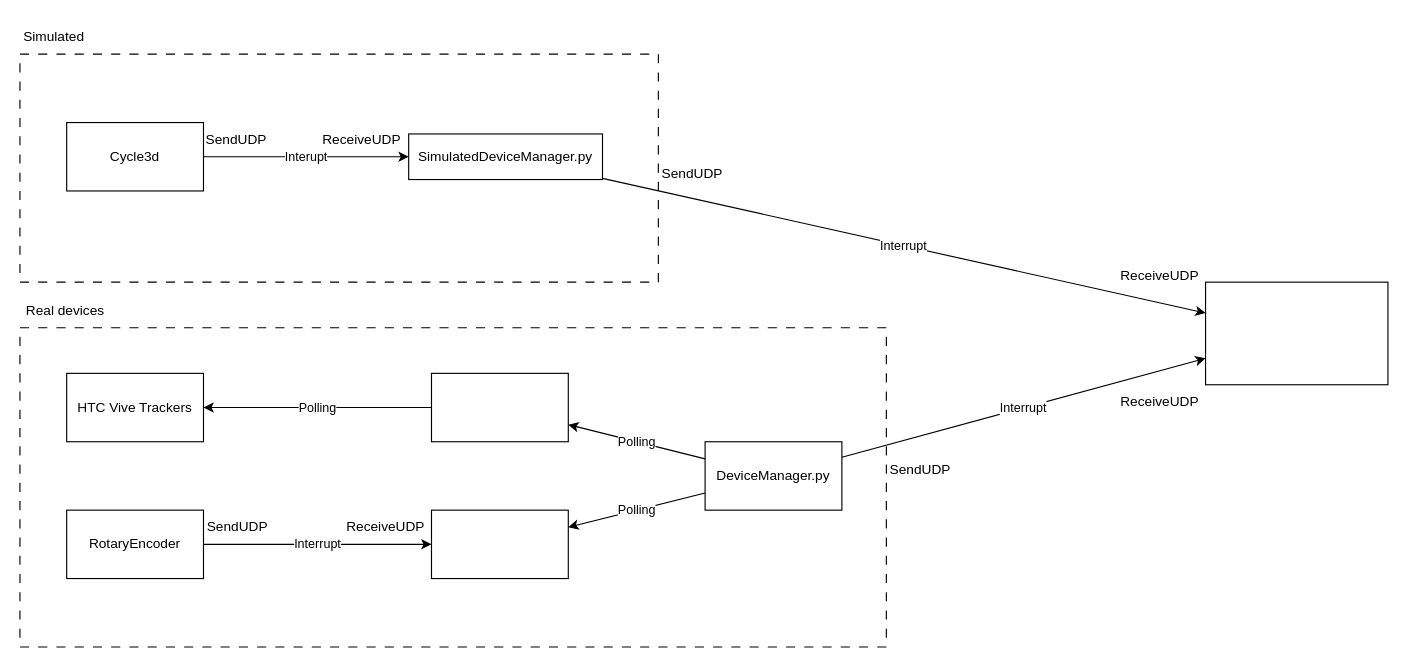
The diagram is 1408 pixels wide and 667 high, and some of its shapes have lost their labels. Each missing label, with the centre of its shape:
"rudder_receiver.py" belongs at (499,544).
"UNITY" belongs at (1296,333).
"ViveTrackers.py" belongs at (499,407).
